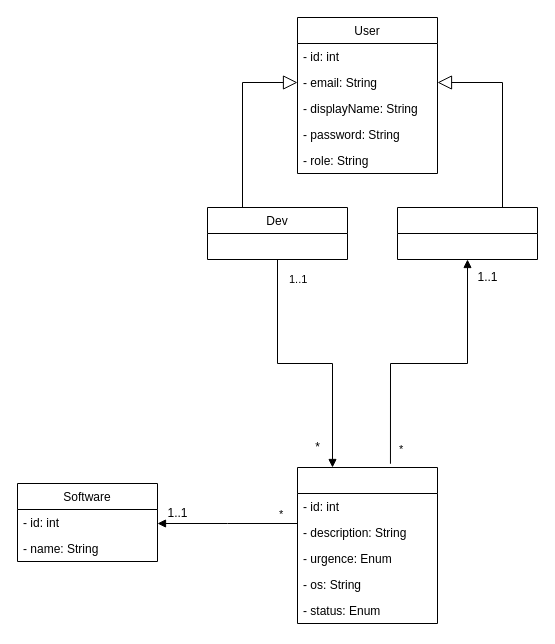
The diagram is 555 pixels wide and 644 high, and some of its shapes have lost their labels. The shapes that lost their labels are listed below. From the top down, each one's box as (x1, y1, x2, y2) in pixels, then its label:
(396, 206, 538, 260): Client
(296, 466, 438, 624): Ticket
